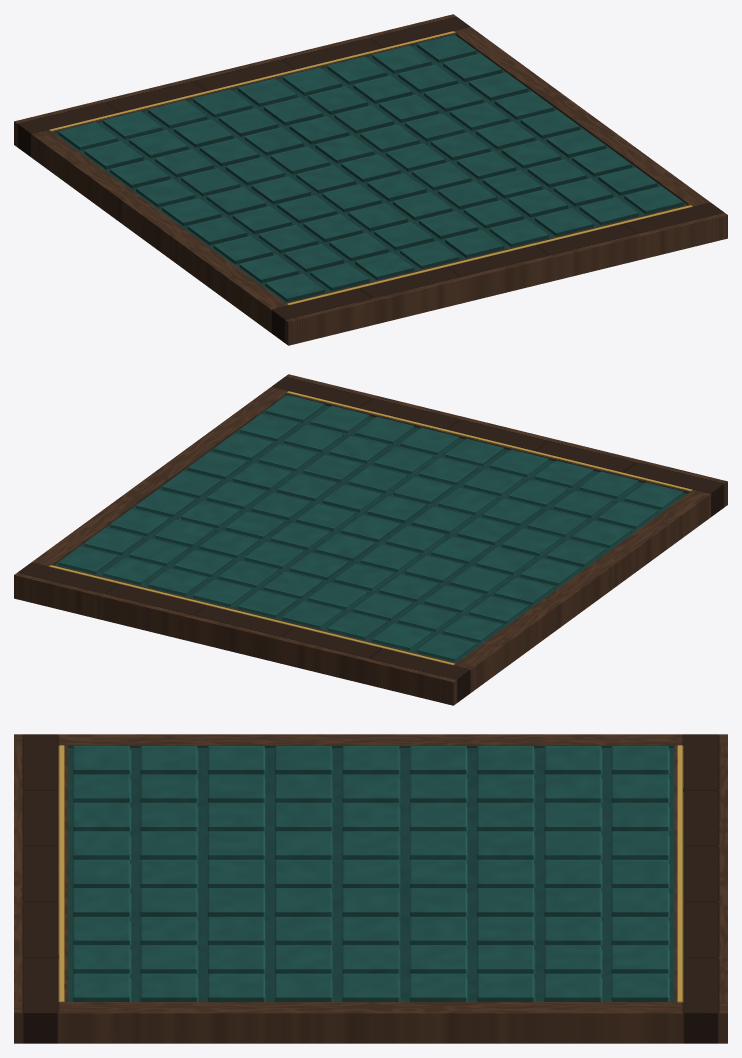
Rendered from board.glb.
3 renders of one model, top to bottom at view 1: azimuth 30°, elevation 25°; view 2: azimuth 150°, elevation 25°; view 3: azimuth 270°, elevation 25°, orthographic. The views are drawn at different scales.
Visible parts, largest first — view 1: board; view 2: board; view 3: board.
Part boxes in pixels (x1,y1,x2,y2): board: (14,14,727,345); board: (14,374,727,705); board: (14,734,727,1043).
Size of the model in its own units: 0.49 by 0.0265 by 0.53.
Materials: 3 (2 with a texture image).
